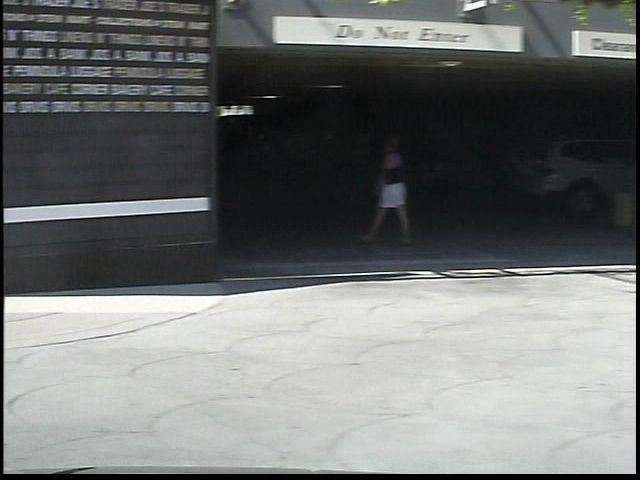person: (344, 133, 401, 251)
